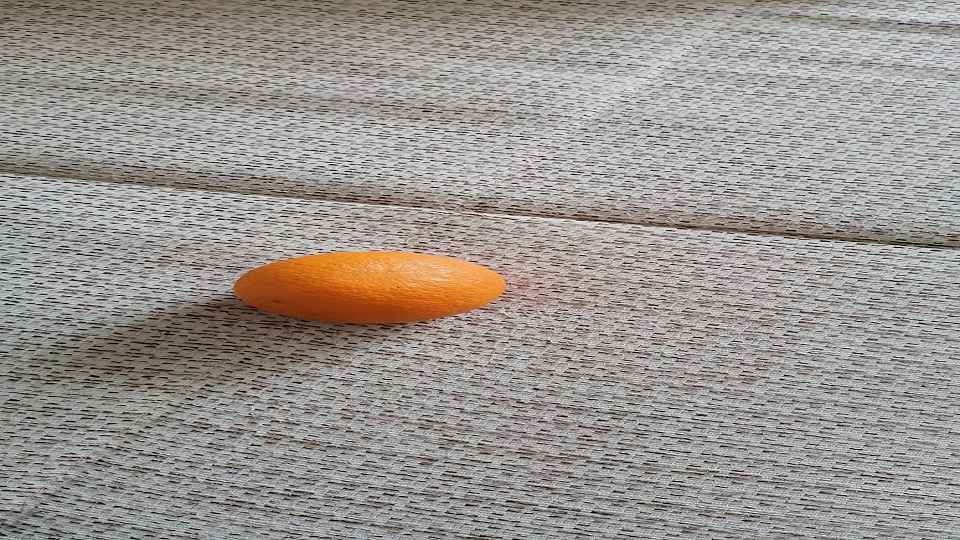portakal: (232, 251, 507, 325)
